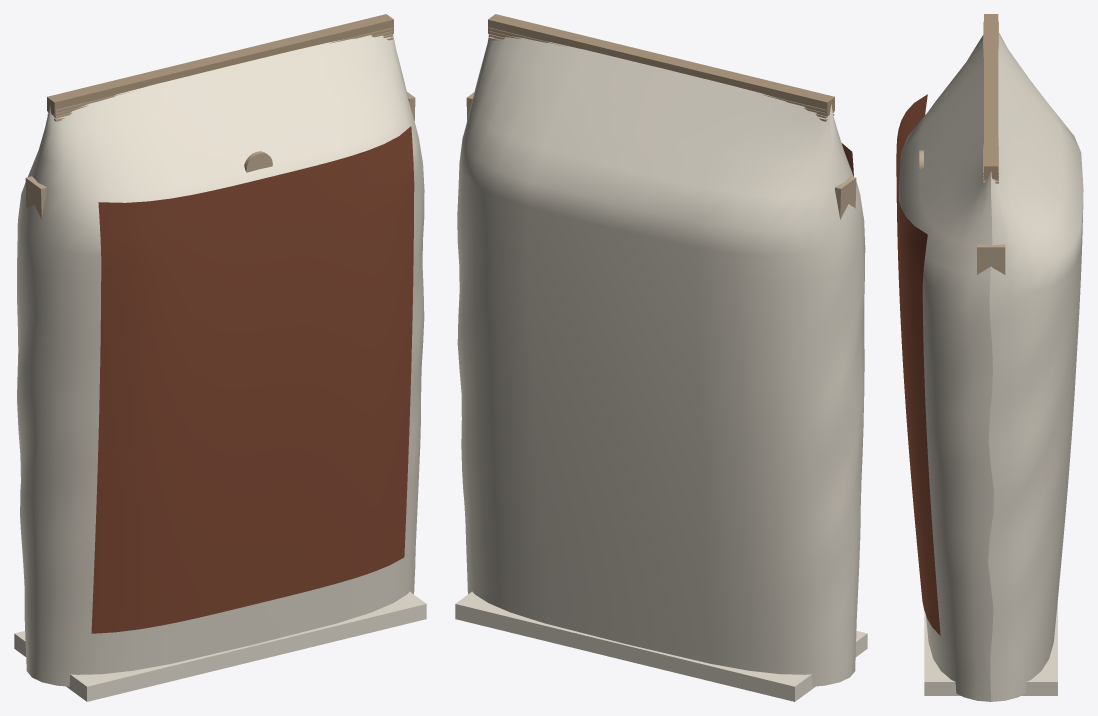
File: zerno-pouch.glb
3 views of the same model, side by side, from view 1: azimuth 30°, elevation 25°; view 2: azimuth 150°, elevation 25°; view 3: azimuth 270°, elevation 25° (orthographic). The views are drawn at different scales.
Parts seen in each view (by area): view 1: Label, Pouch_OpenMorph, ZernoPouch, OpeningSeam; view 2: Pouch_OpenMorph, ZernoPouch, OpeningSeam; view 3: Pouch_OpenMorph, Label, ZernoPouch, OpeningSeam.
Boxes of the visible parts, bbox=[...] form: Label: bbox=[91, 126, 414, 633]; Pouch_OpenMorph: bbox=[17, 35, 424, 686]; ZernoPouch: bbox=[14, 91, 426, 701]; OpeningSeam: bbox=[47, 14, 393, 116]; Pouch_OpenMorph: bbox=[457, 36, 865, 686]; ZernoPouch: bbox=[455, 92, 867, 701]; OpeningSeam: bbox=[488, 14, 834, 116]; Pouch_OpenMorph: bbox=[898, 33, 1083, 701]; Label: bbox=[896, 94, 940, 635]; ZernoPouch: bbox=[924, 244, 1057, 695]; OpeningSeam: bbox=[984, 14, 998, 179].
Size of the model in its own units: 1.59 by 2.27 by 0.7262.
